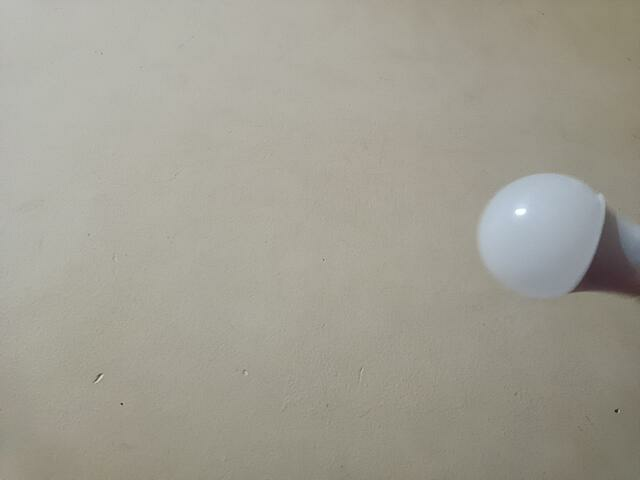Bulb: (477, 173, 640, 304)
